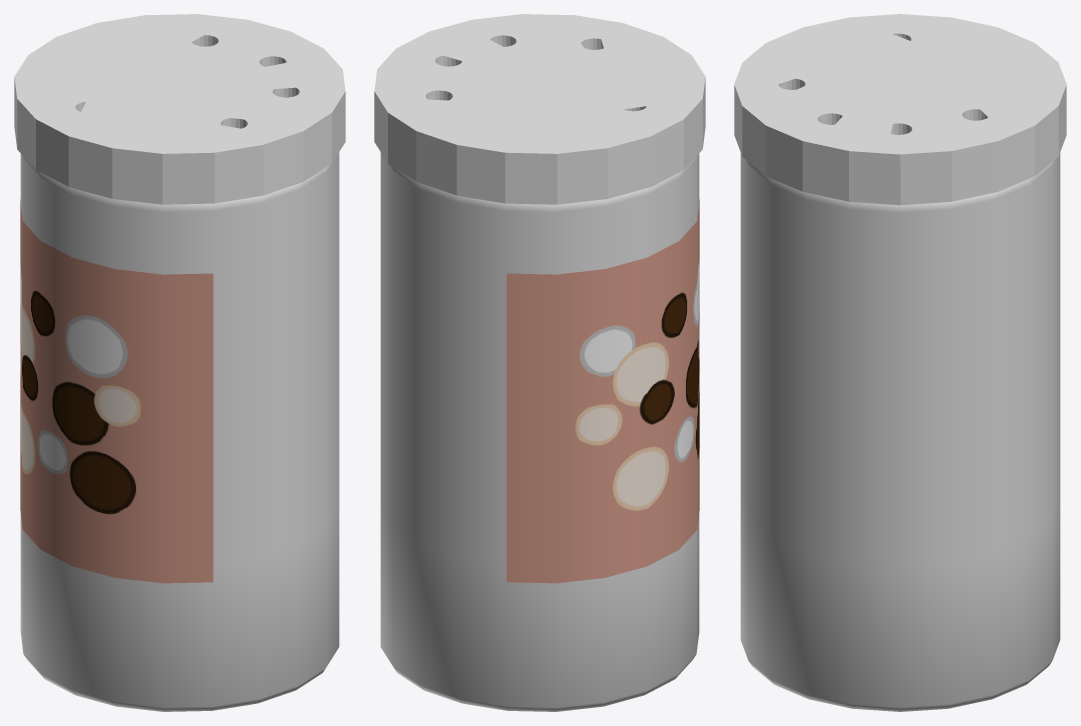
Rendered from sprinkles03.fbx.
3 views of the same model, side by side, from view 1: azimuth 30°, elevation 25°; view 2: azimuth 150°, elevation 25°; view 3: azimuth 270°, elevation 25° (orthographic).
Visible parts, largest first — view 1: sprinkles03; view 2: sprinkles03; view 3: sprinkles03.
Part boxes in pixels (x1,y1,x2,y2): sprinkles03: (14, 14, 345, 711); sprinkles03: (374, 14, 705, 711); sprinkles03: (734, 14, 1066, 711).
Size of the model in its own units: 55.64 by 104 by 55.64.
